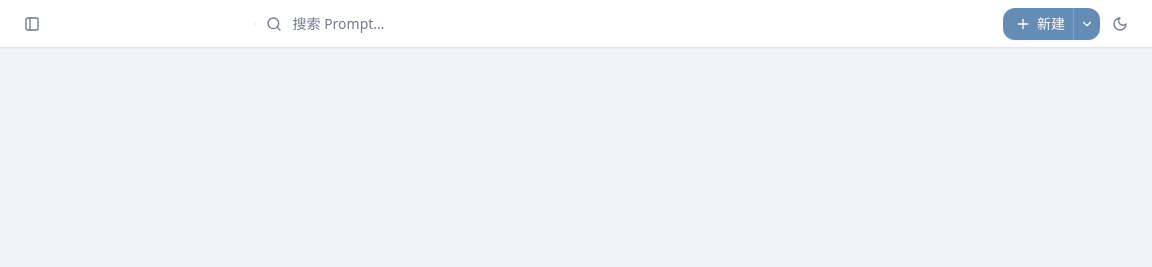
TopBar › renders the create mode dropdown in a portal when the split button is opened
Click the 3rd button at [1087, 24], box [1074,8,1100,40]
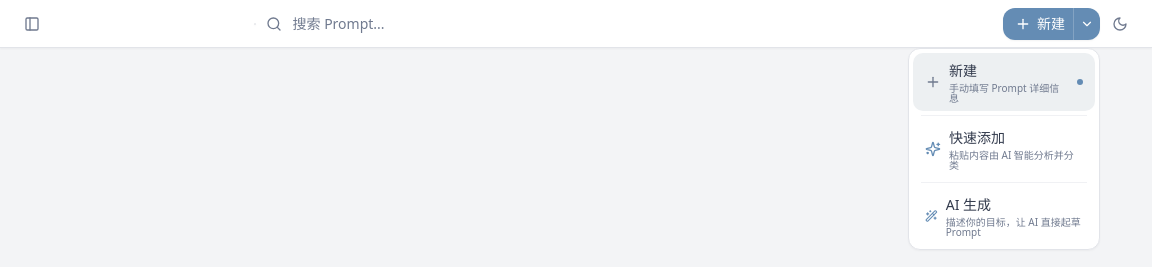
Now the menu is shown, box [908,48,1100,250]
Now the text "手动填写 Prompt 详细信息" is shown, box [949,82,1069,102]
Now the text "粘贴内容由 AI 智能分析并分类" is shown, box [949,150,1083,170]
